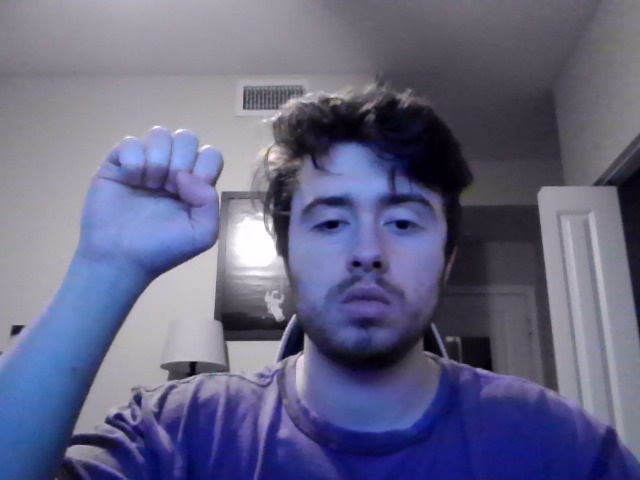e: (79, 124, 225, 278)
